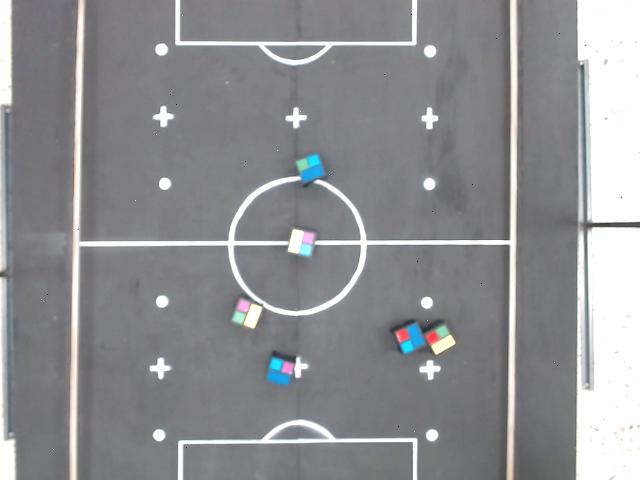robot: (393, 320, 428, 356), (229, 295, 264, 331), (423, 321, 457, 357), (293, 151, 327, 185), (284, 226, 317, 259), (263, 355, 296, 387)
